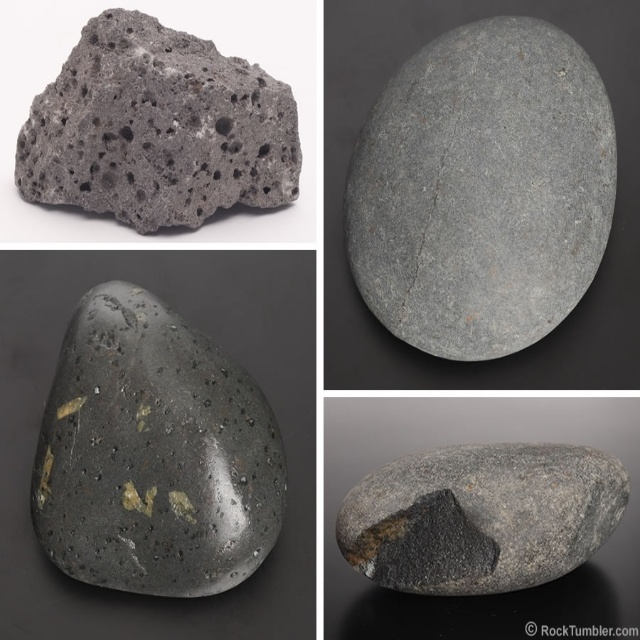obstacle: (344, 17, 616, 360), (31, 281, 286, 596), (15, 9, 301, 233), (336, 443, 629, 595)
